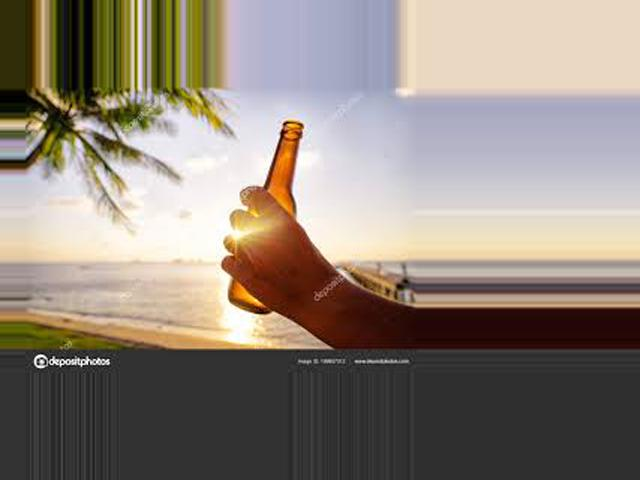beer: (229, 120, 306, 316)
